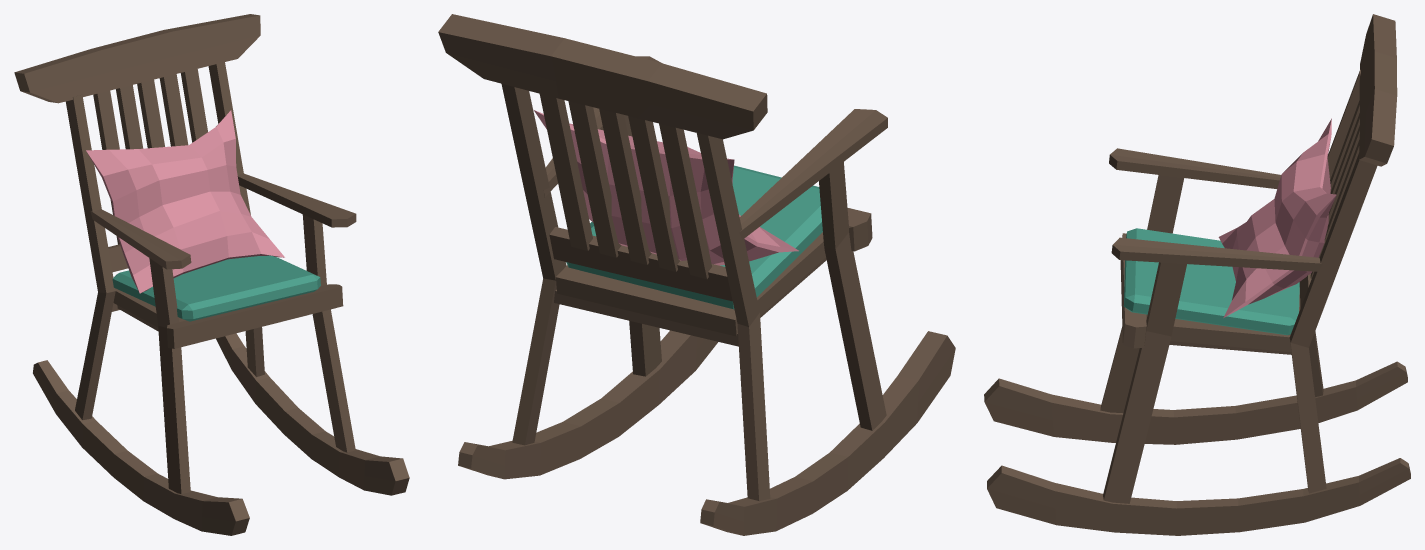
The model's file is Chair_2.fbx.
3 views of the same model, side by side, from view 1: azimuth 30°, elevation 25°; view 2: azimuth 150°, elevation 25°; view 3: azimuth 270°, elevation 25° (orthographic). The views are drawn at different scales.
Visible parts, largest first — view 1: Chair_2; view 2: Chair_2; view 3: Chair_2.
Part boxes in pixels (<box>): Chair_2: <box>14,14,409,535</box>; Chair_2: <box>438,14,955,535</box>; Chair_2: <box>984,14,1410,535</box>.
Size of the model in its own units: 102 by 145 by 155.
